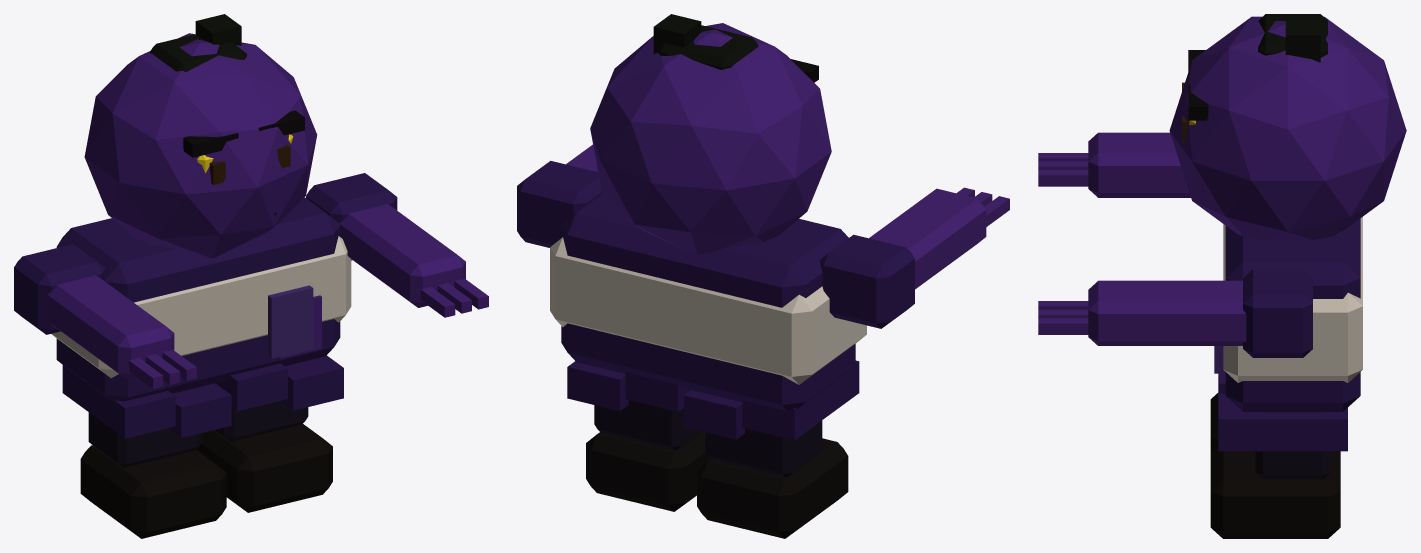
The model's file is brute.glb.
3 views of the same model, side by side, from view 1: azimuth 30°, elevation 25°; view 2: azimuth 150°, elevation 25°; view 3: azimuth 270°, elevation 25° (orthographic). The views are drawn at different scales.
Visible parts, largest first — view 1: brute; view 2: brute; view 3: brute.
Boxes of the visible parts, x1,y1,x2,y2 form: brute: (14,14,488,538); brute: (517,14,1009,538); brute: (1038,14,1406,538).
Bounding box in the file's own units: 2.25 × 2.74 × 1.92.
